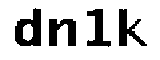1: (81, 3, 114, 50)
d: (8, 6, 44, 50)
k: (116, 6, 150, 51)
n: (46, 12, 81, 51)
